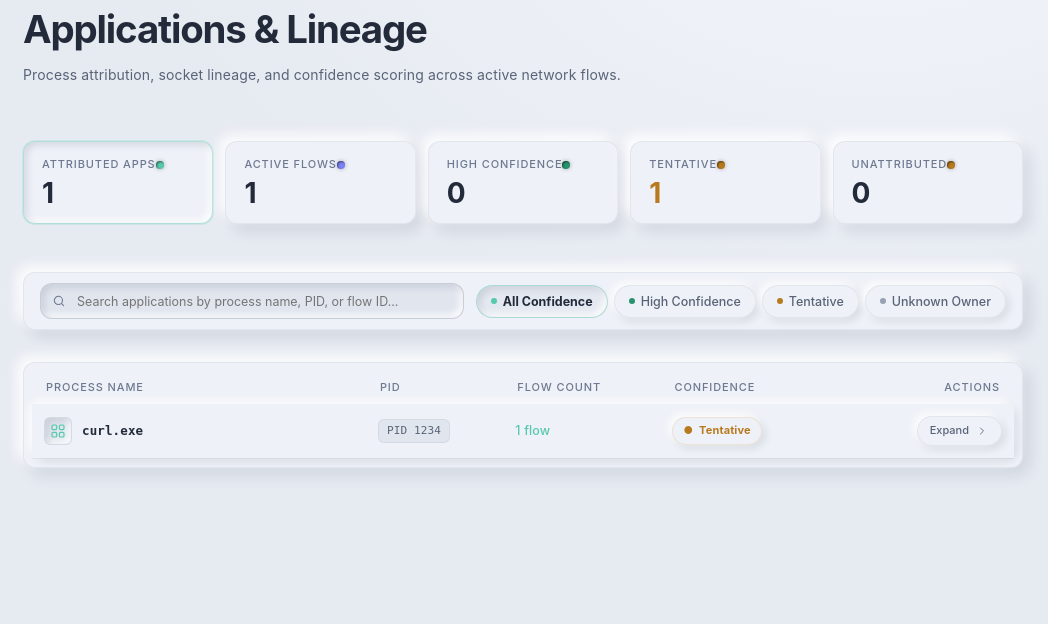
it: Apps Screen & useAppsController › filters process groups by search query and confidence level buttons
Check: the text "curl.exe" is shown, box [82, 421, 143, 441]
Type "nonexistent" into the search field with placeholder "Search applications by process name, PID, or flow ID...".
click(252, 301); type("nonexistent")  # box [40, 283, 464, 319]
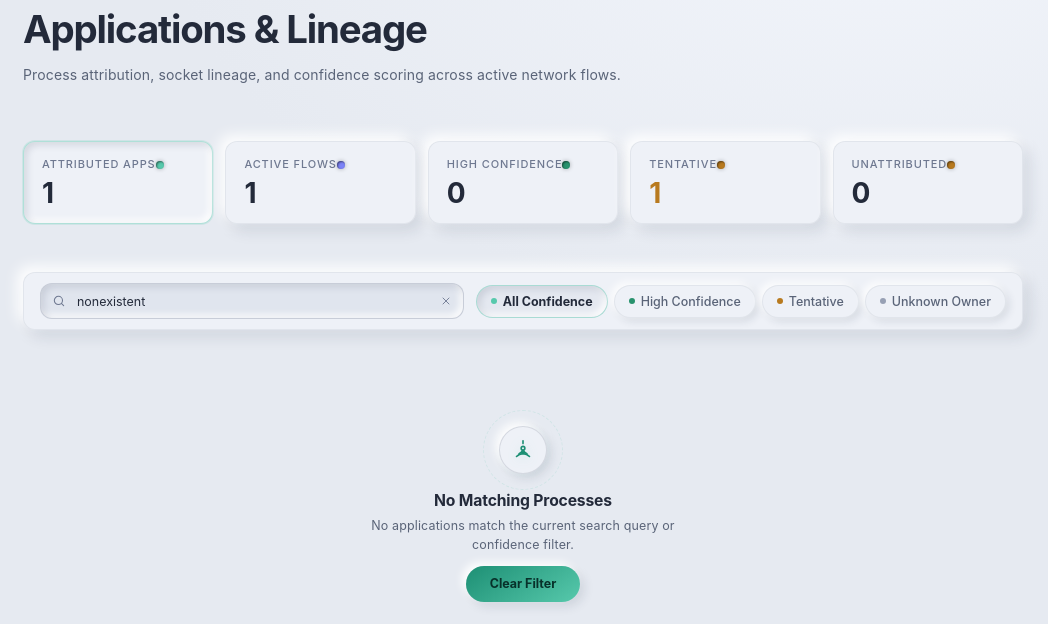
Check: the text "No applications match the current search query or confidence filter." is shown, box [366, 516, 680, 554]
Click the button "Clear Filter".
click(523, 584)  # box [466, 566, 580, 602]
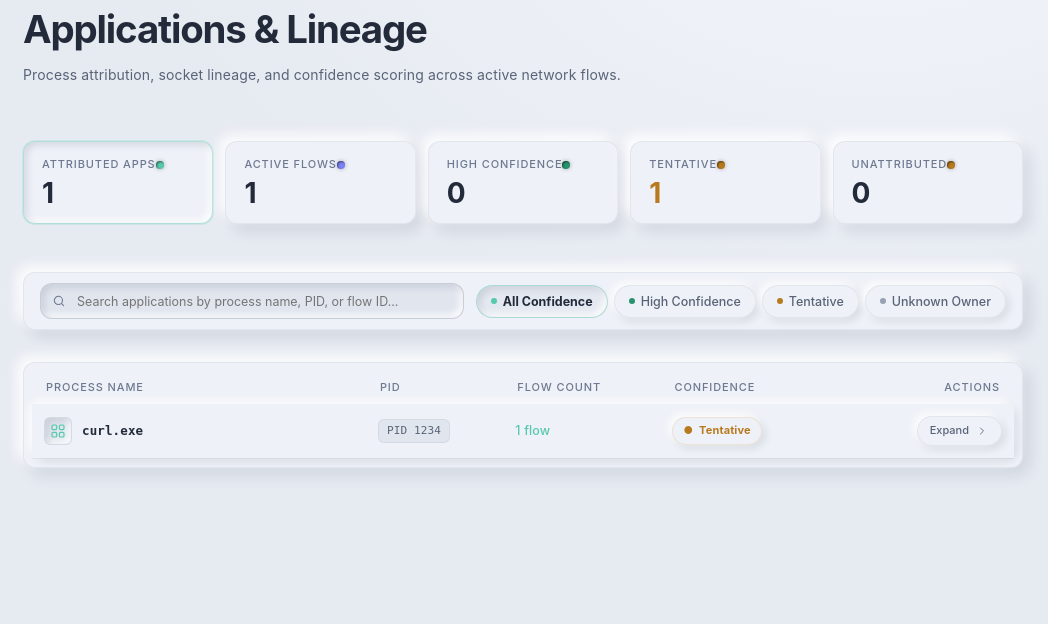
Check: the text "curl.exe" is shown, box [82, 421, 143, 441]
